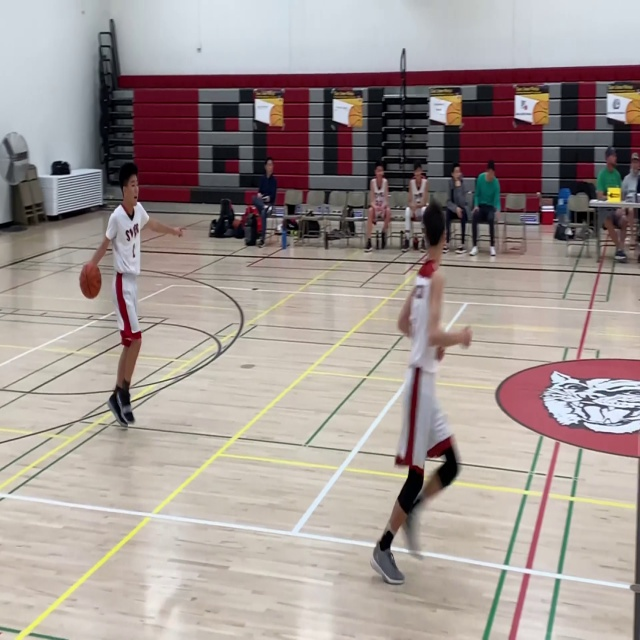Basketball: (79, 263, 102, 299)
